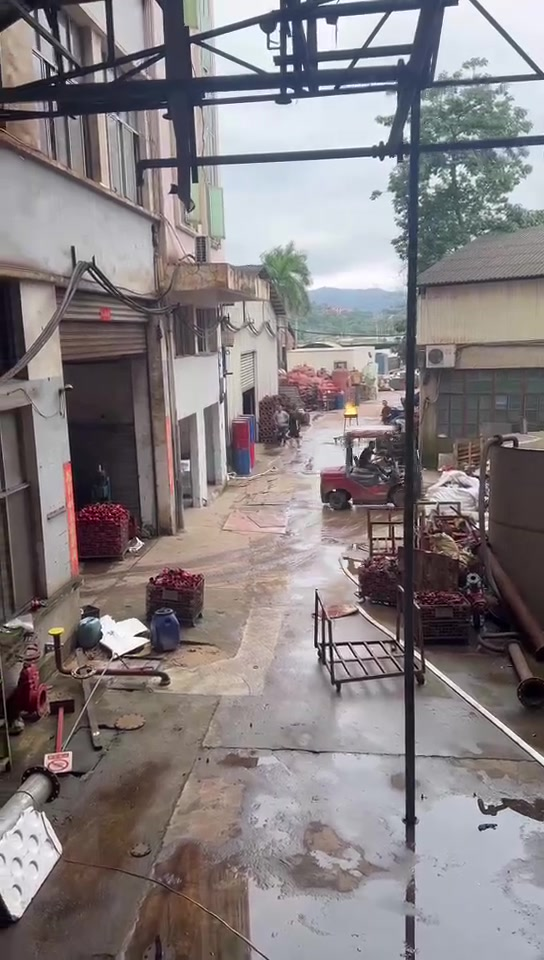fire: (343, 399, 356, 414)
